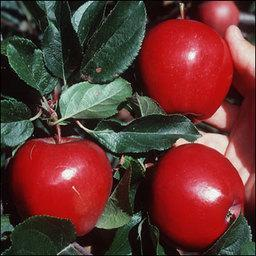apple: (148, 143, 247, 250), (8, 136, 113, 235), (139, 19, 235, 121), (193, 1, 238, 35)
